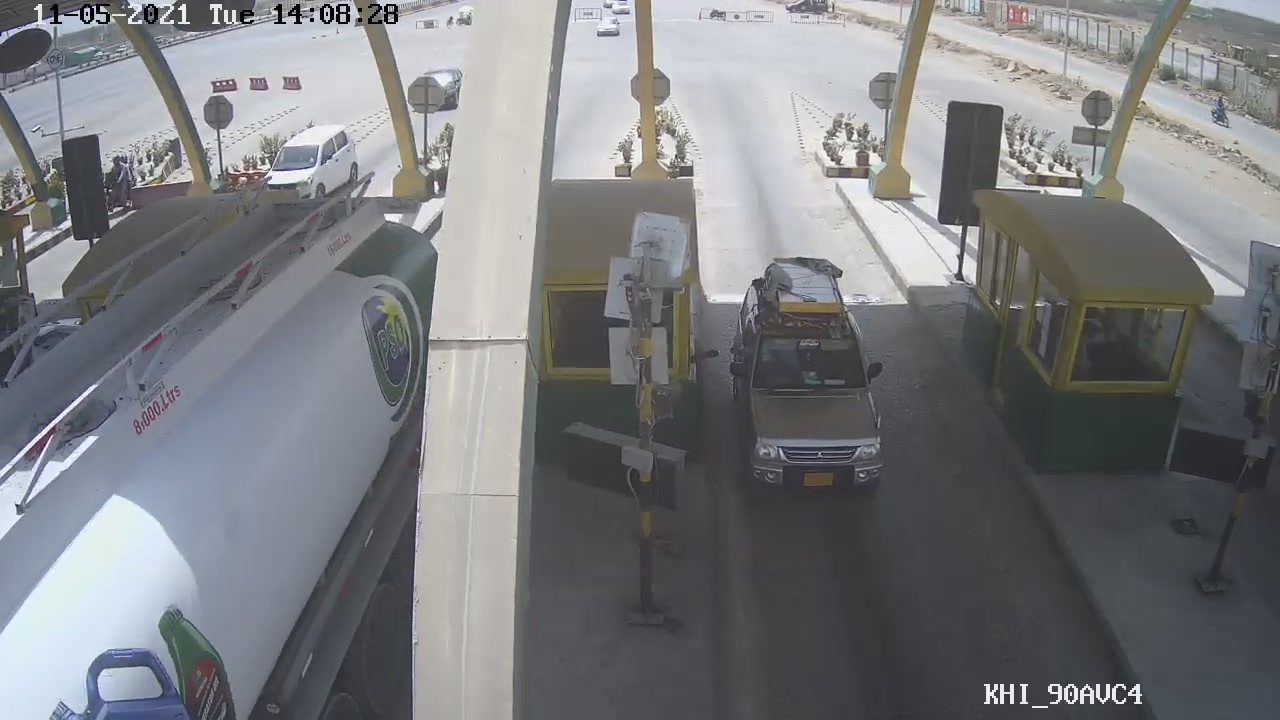F1: (716, 261, 889, 509)
